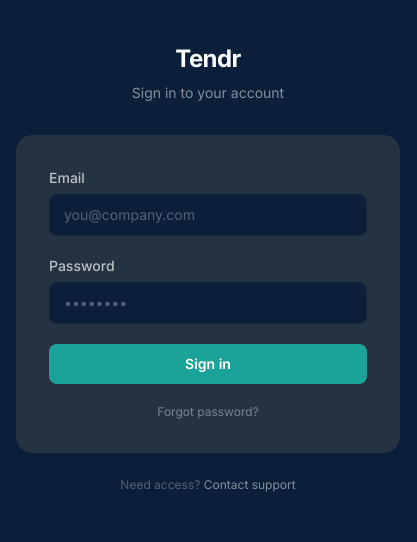
Test: LoginPage › clears a previous error when the form is resubmitted
Type "admin@example.com" into the field labelled "Email" at {"x": 208, "y": 215}, box [49, 194, 367, 236]
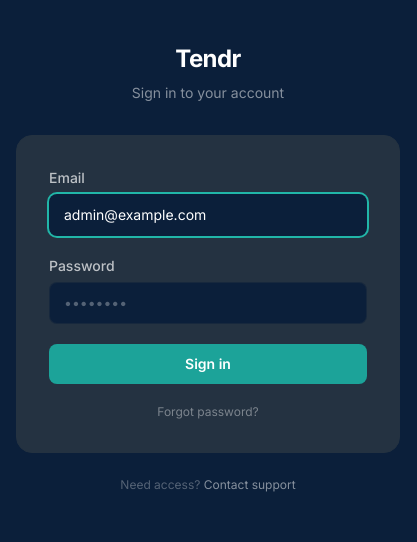
Type "wrong" into the password field labelled "Password" at {"x": 208, "y": 303}, box [49, 282, 367, 324]
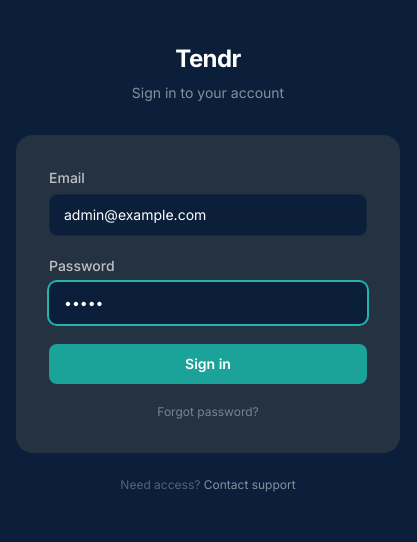
Click the button "Sign in" at {"x": 208, "y": 364}, box [49, 344, 367, 384]
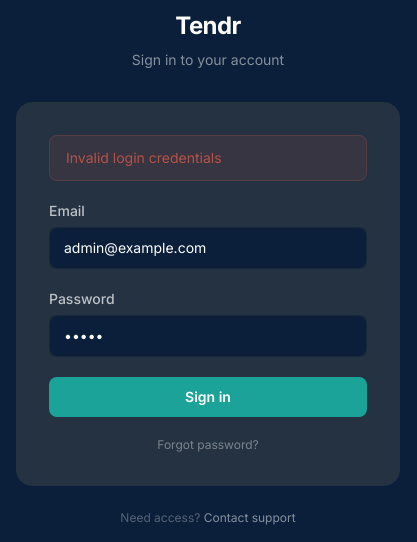
Expected: the text "Invalid login credentials" is shown, [49, 135, 367, 181]
Click the button "Sign in" at {"x": 208, "y": 397}, box [49, 377, 367, 417]
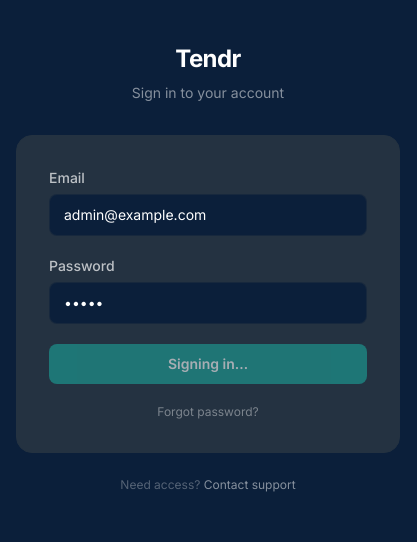
Expected: the text "Invalid login credentials" is gone
